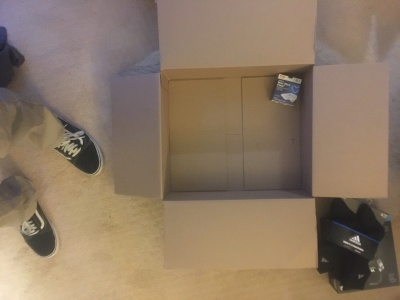innerbox: (159, 67, 314, 199)
outerbox: (111, 1, 389, 272)
product: (274, 73, 300, 104)
